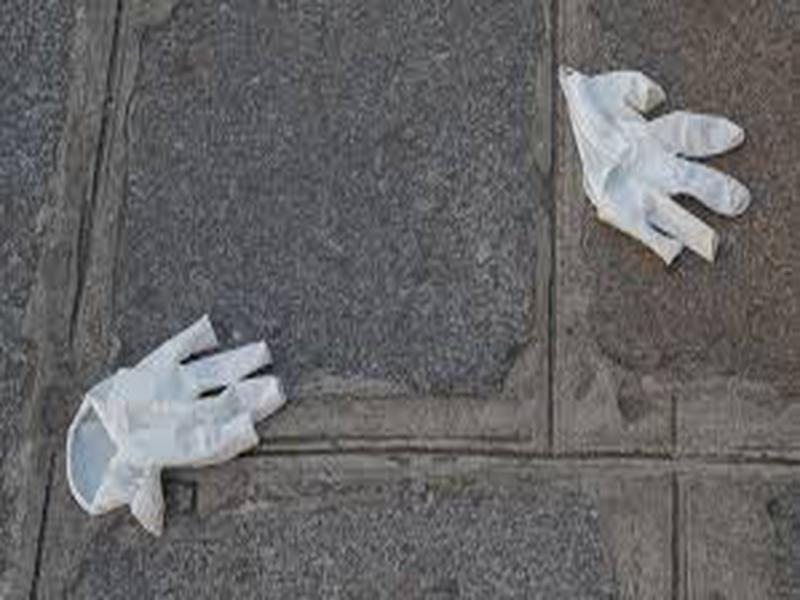gloves: (54, 312, 291, 538), (553, 55, 756, 269)
